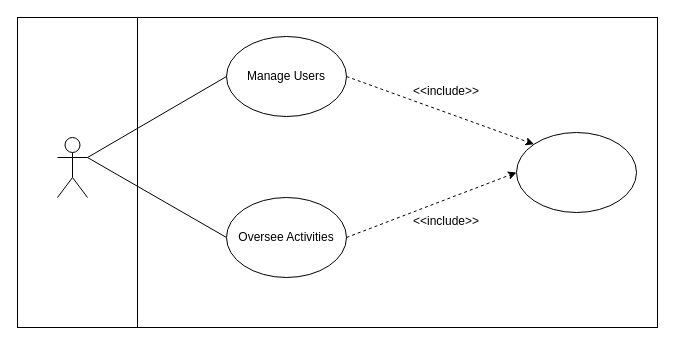
Image size: 675x345. Some labels were removed from this diagram. Here are the shapes that lost their labels. From the top down, the centre of each, then its label:
the point at 72,167: Admin
the point at 576,172: Login
